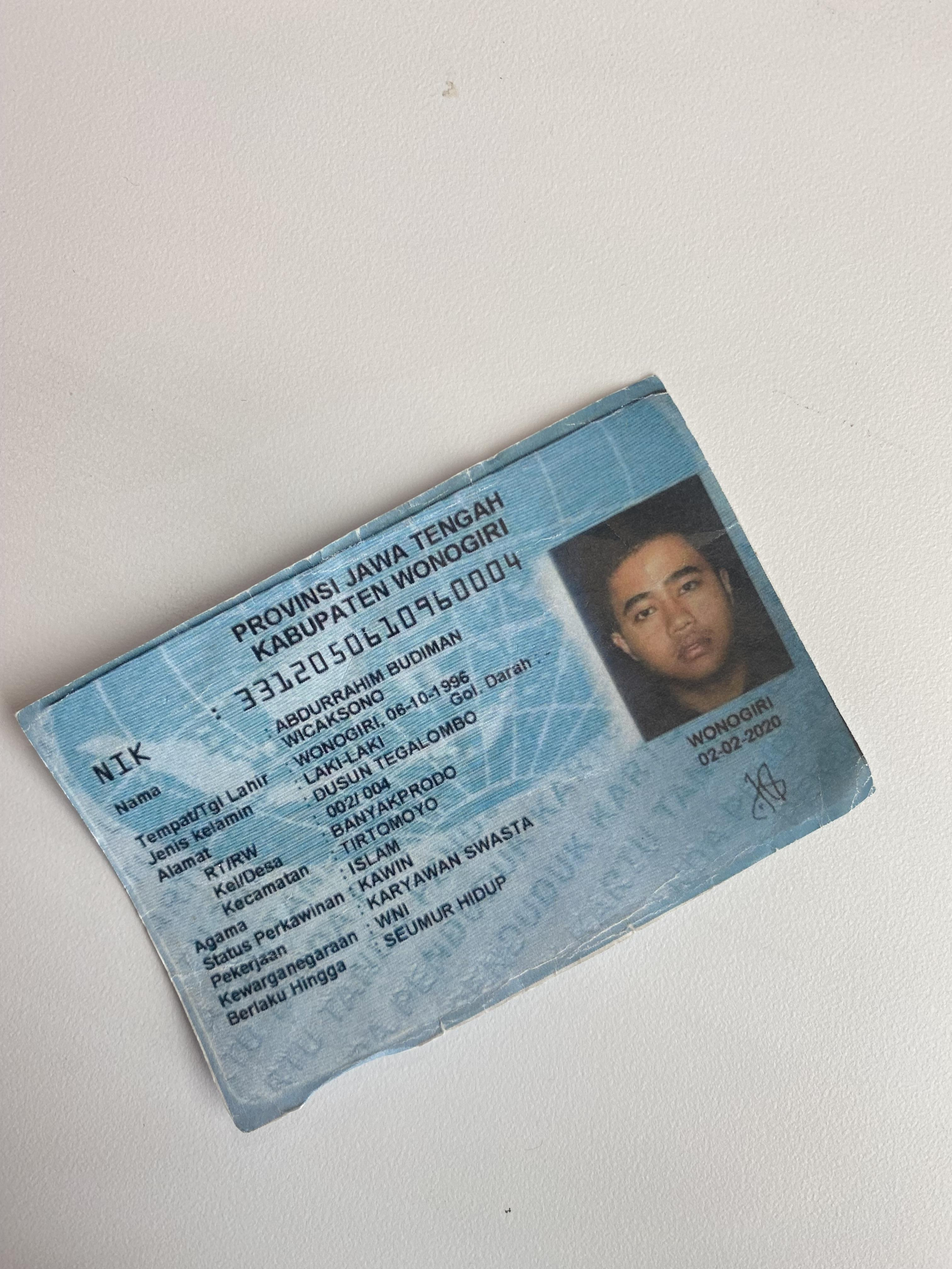ktp: (11, 370, 872, 1131)
